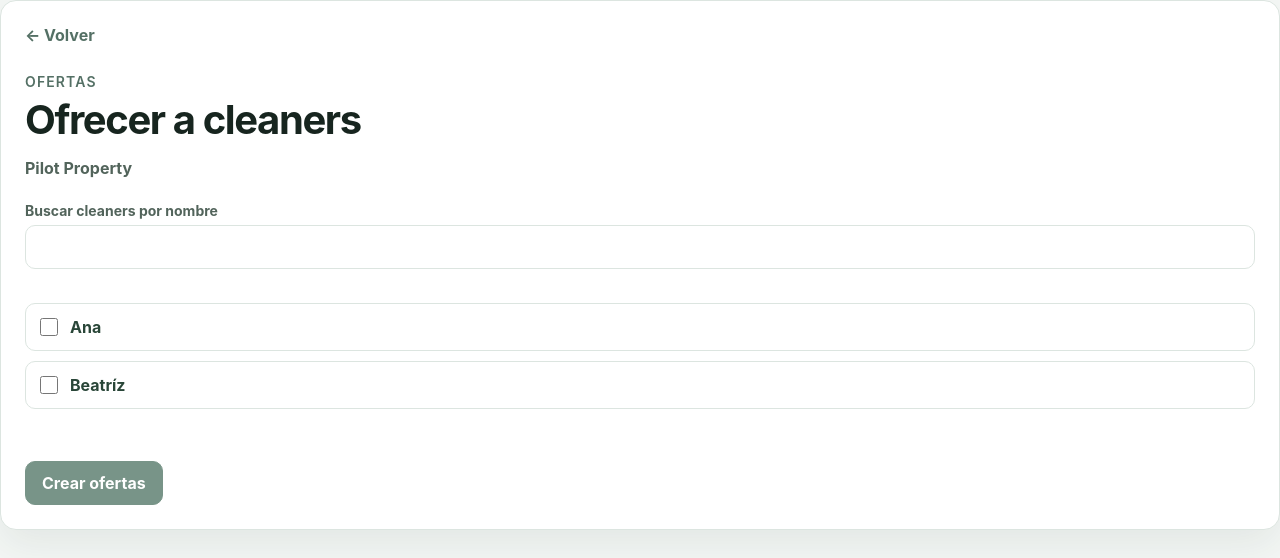
OfferCleaners name search › localizes the offer-list search and creation action in es
Type "missing" into the search field labelled "Buscar cleaners por nombre" at [640, 247], box [25, 225, 1255, 269]
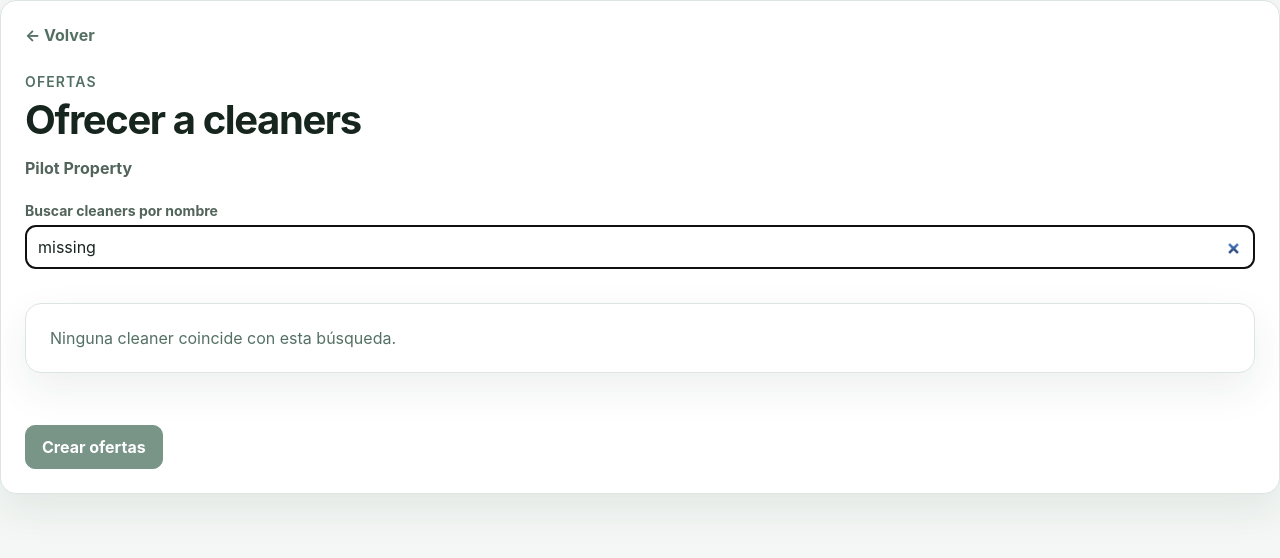
Expected: the button "Crear ofertas" is disabled, [25, 425, 163, 469]
Expected: the text "Ninguna cleaner coincide con esta búsqueda." is shown, [25, 303, 1255, 373]
